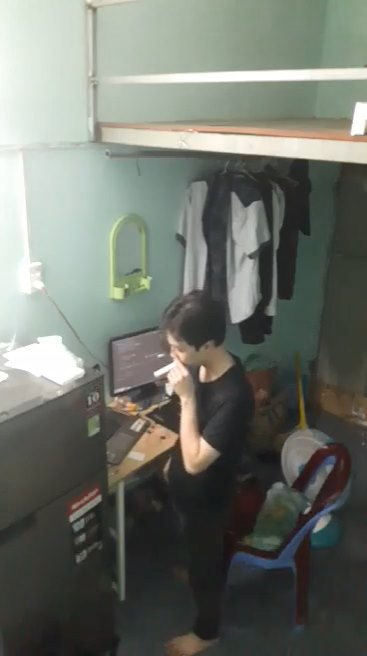cigarette: (151, 357, 182, 380)
person: (146, 288, 269, 656)
